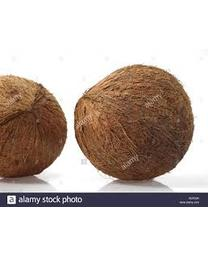coconut: (74, 64, 194, 181), (1, 74, 67, 179)
